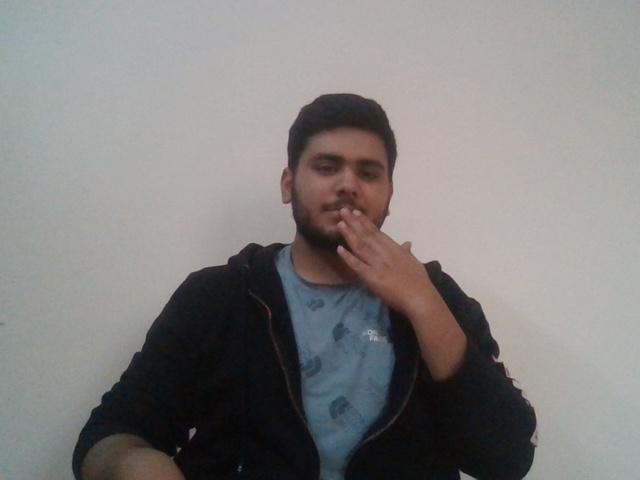Thanks: (291, 197, 437, 297)
